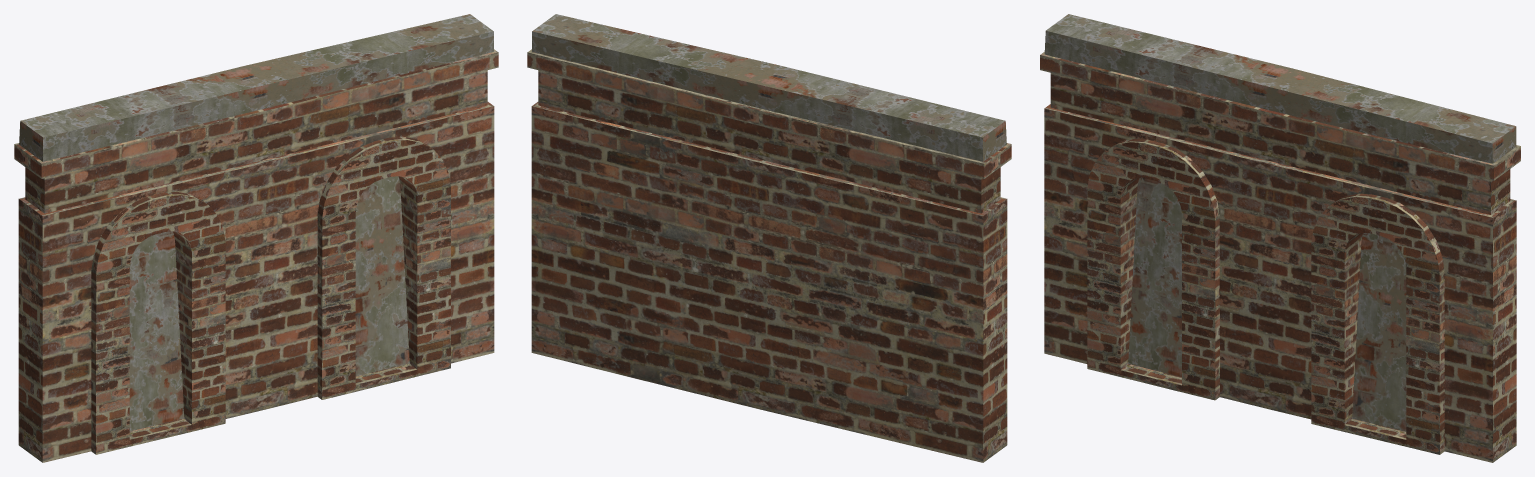
Rendered from Victorian Tall Wall.fbx.
The picture shows the model from 3 angles, left to right: view 1: azimuth 30°, elevation 25°; view 2: azimuth 150°, elevation 25°; view 3: azimuth 330°, elevation 25°; orthographic projection.
Visible parts, largest first — view 1: Cube.001; view 2: Cube.001; view 3: Cube.001.
Part boxes in pixels (<box>): Cube.001: <box>14,14,498,462</box>; Cube.001: <box>527,14,1011,462</box>; Cube.001: <box>1040,14,1520,462</box>.
Bounding box in the file's own units: 825 × 560 × 102.
